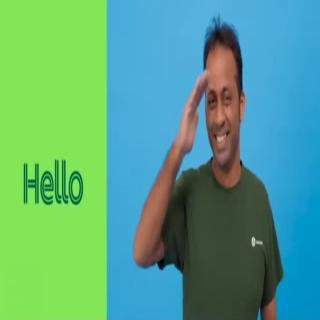Hello: (134, 13, 276, 320)
